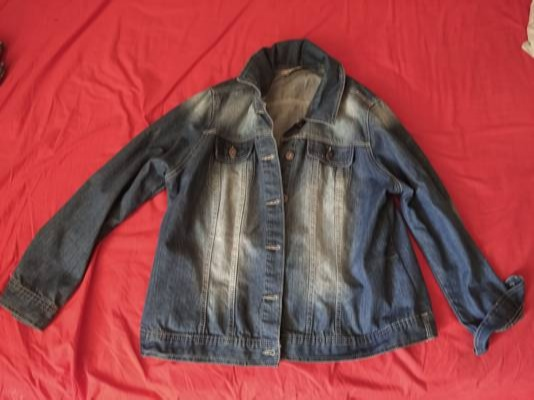Blazer: (18, 34, 522, 359)
